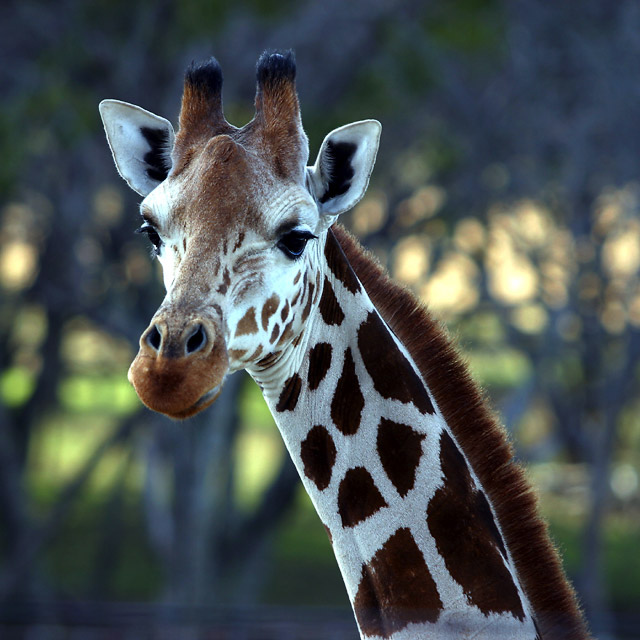giraffe: (99, 52, 562, 622)
